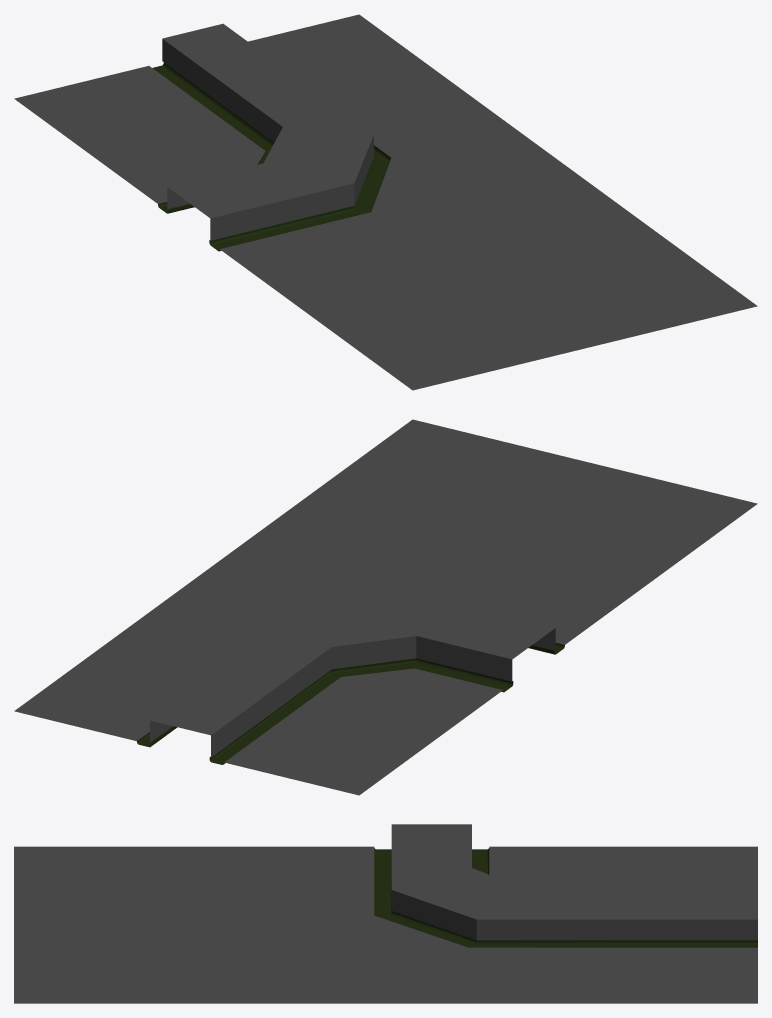
Rendered from MSG_Lr_ceiling_1.FBX.
3 views of the same model, one above another, from view 1: azimuth 30°, elevation 25°; view 2: azimuth 150°, elevation 25°; view 3: azimuth 270°, elevation 25° (orthographic). The views are drawn at different scales.
Visible parts, largest first — view 1: Plane059; view 2: Plane059; view 3: Plane059.
Part boxes in pixels (x1,y1,x2,y2): Plane059: [14, 14, 757, 390]; Plane059: [14, 419, 757, 795]; Plane059: [14, 824, 757, 1003].
Bounding box in the file's own units: 550 × 40.97 × 1100.
